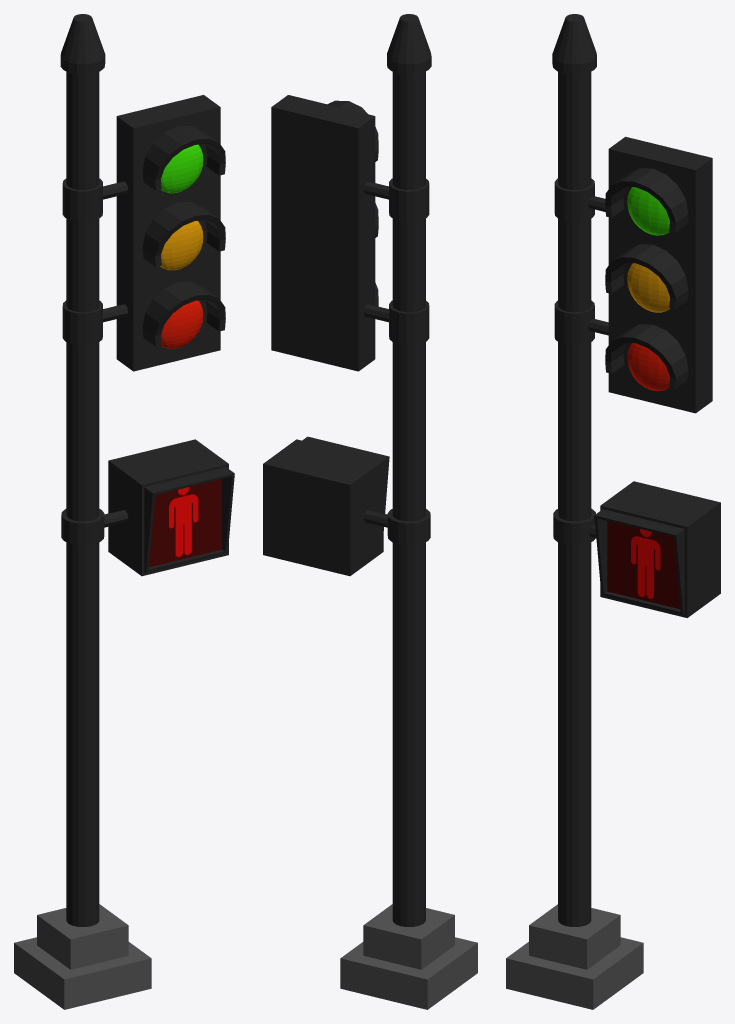
File: Semaforo.fbx
3 renders of one model, left to right at view 1: azimuth 30°, elevation 25°; view 2: azimuth 150°, elevation 25°; view 3: azimuth 330°, elevation 25°, orthographic.
Visible parts, largest first — view 1: Cylinder, Cube.002, Cube.003, Cube, Cube.001, Cylinder.005, Cylinder.004, Cylinder.006, Sphere.001, Sphere, Sphere.002; view 2: Cylinder, Cube.002, Cube.003, Cube, Cube.001; view 3: Cylinder, Cube.002, Cube.003, Cube, Cube.001, Cylinder.004, Cylinder.005, Cylinder.006, Sphere.001, Sphere, Sphere.002.
Boxes of the visible parts, bbox=[...] form: Cylinder: bbox=[60, 14, 105, 926]; Cube.002: bbox=[116, 95, 220, 371]; Cube.003: bbox=[108, 439, 234, 576]; Cube: bbox=[14, 937, 151, 1009]; Cube.001: bbox=[37, 904, 128, 969]; Cylinder.005: bbox=[142, 202, 225, 266]; Cylinder.004: bbox=[142, 126, 225, 190]; Cylinder.006: bbox=[142, 281, 225, 346]; Sphere.001: bbox=[160, 220, 203, 270]; Sphere: bbox=[161, 144, 203, 193]; Sphere.002: bbox=[161, 300, 203, 348]; Cylinder: bbox=[387, 14, 431, 926]; Cube.002: bbox=[271, 95, 375, 371]; Cube.003: bbox=[263, 436, 389, 576]; Cube: bbox=[340, 937, 477, 1009]; Cube.001: bbox=[363, 904, 454, 969]; Cylinder: bbox=[552, 14, 596, 926]; Cube.002: bbox=[608, 136, 712, 413]; Cube.003: bbox=[594, 481, 720, 617]; Cube: bbox=[506, 937, 643, 1009]; Cube.001: bbox=[529, 904, 620, 969]; Cylinder.004: bbox=[605, 168, 688, 233]; Cylinder.005: bbox=[605, 244, 688, 309]; Cylinder.006: bbox=[605, 324, 688, 388]; Sphere.001: bbox=[627, 263, 670, 312]; Sphere: bbox=[627, 187, 669, 235]; Sphere.002: bbox=[627, 343, 669, 390].
Size of the model in its own units: 119 by 633 by 61.5.
Materials: 6 (1 with a texture image).
